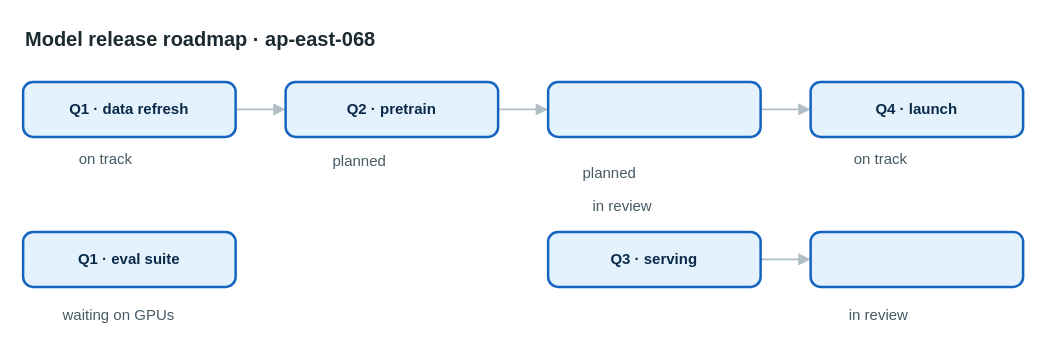
Some shapes in this 1045 by 346 pixel diagram are drawn without their labels. The shapes that lost their labels are listed below. From the top down, each one's box as (x1, y1, x2, y2) in pixels, then its label:
(546, 80, 761, 138): Q3 · alignment
(809, 230, 1024, 288): Q4 · docs
